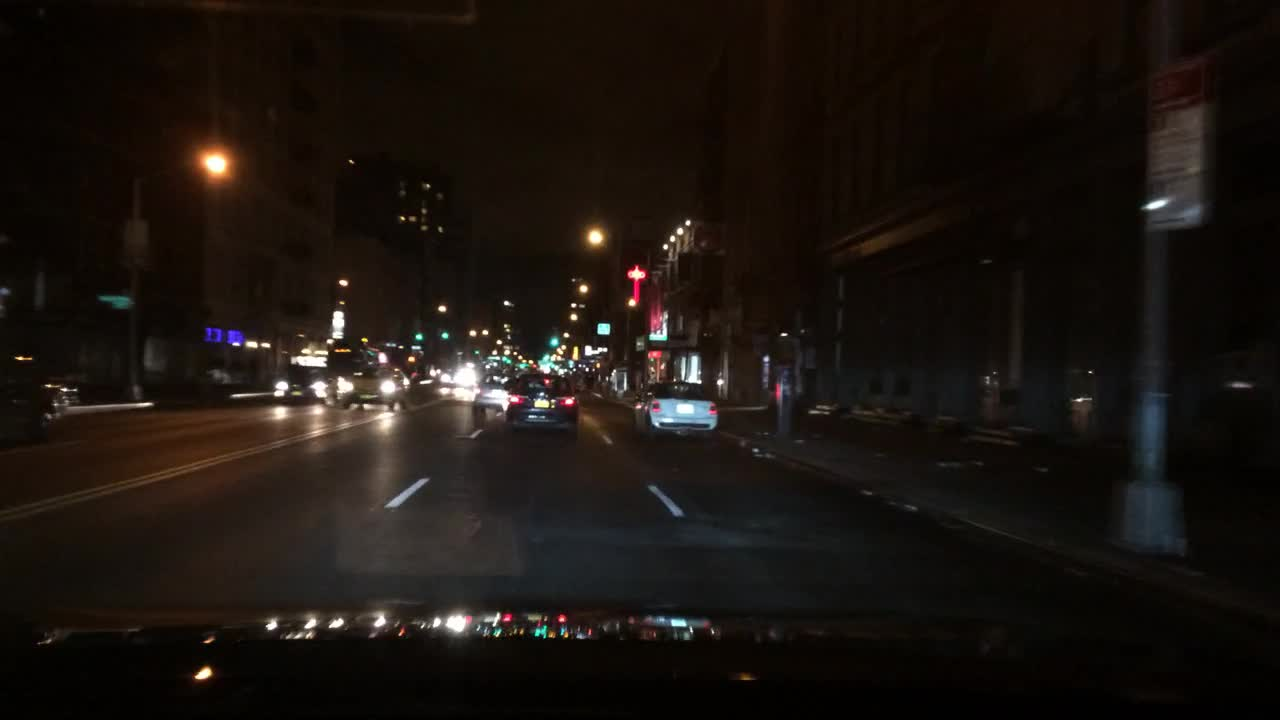car: (0, 353, 74, 442), (631, 374, 719, 444), (503, 371, 582, 439), (330, 354, 411, 412), (271, 358, 337, 403), (472, 369, 513, 410), (437, 363, 469, 386)
traffic light: (437, 320, 449, 341), (413, 320, 423, 344), (548, 327, 558, 347)
traffic sign: (1139, 61, 1206, 229), (120, 212, 150, 268), (96, 290, 131, 305), (595, 320, 611, 334)
